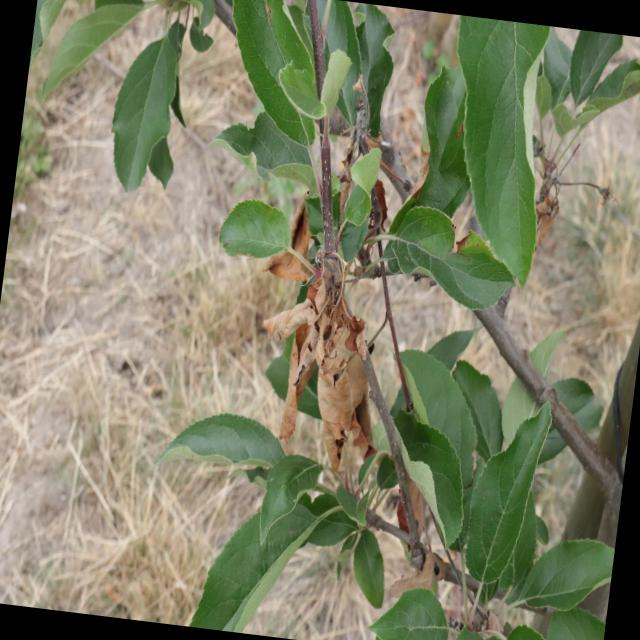-FireBlight-: (264, 178, 398, 484), (382, 475, 450, 595), (533, 150, 566, 252)
